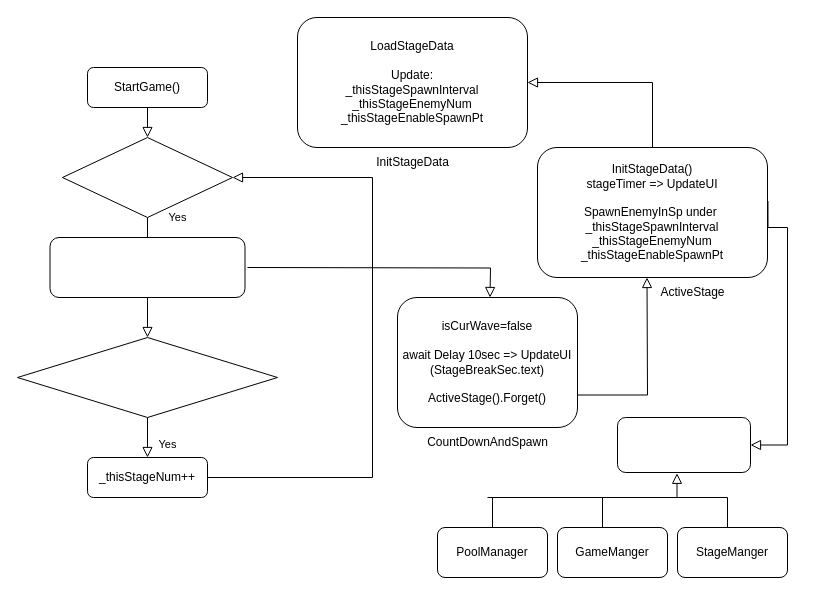
The diagram is 815 pixels wide and 595 high, and some of its shapes have lost their labels. The shapes that lost their labels are listed below. From the top down, each one's centre as x and y in pixels, then its label:
At (147,177): "_thisStageNum != 11 ?".
At (147,267): "CountDownAndSpawn().Forget() isCurWaveEnded=false".
At (147,377): "UniTask.WaitUntil()=> isCurWaveEnded?".
At (683,444): "SpawnEnemyInSp".
